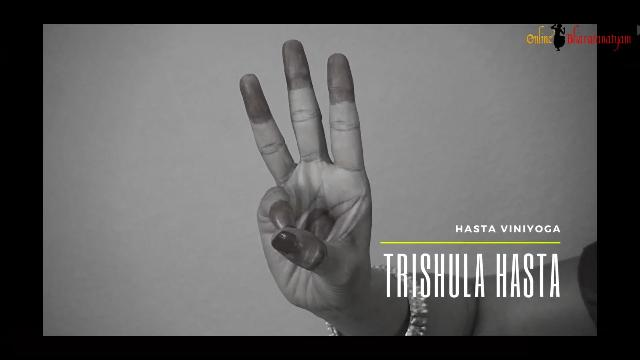trishool: (207, 33, 403, 327)
